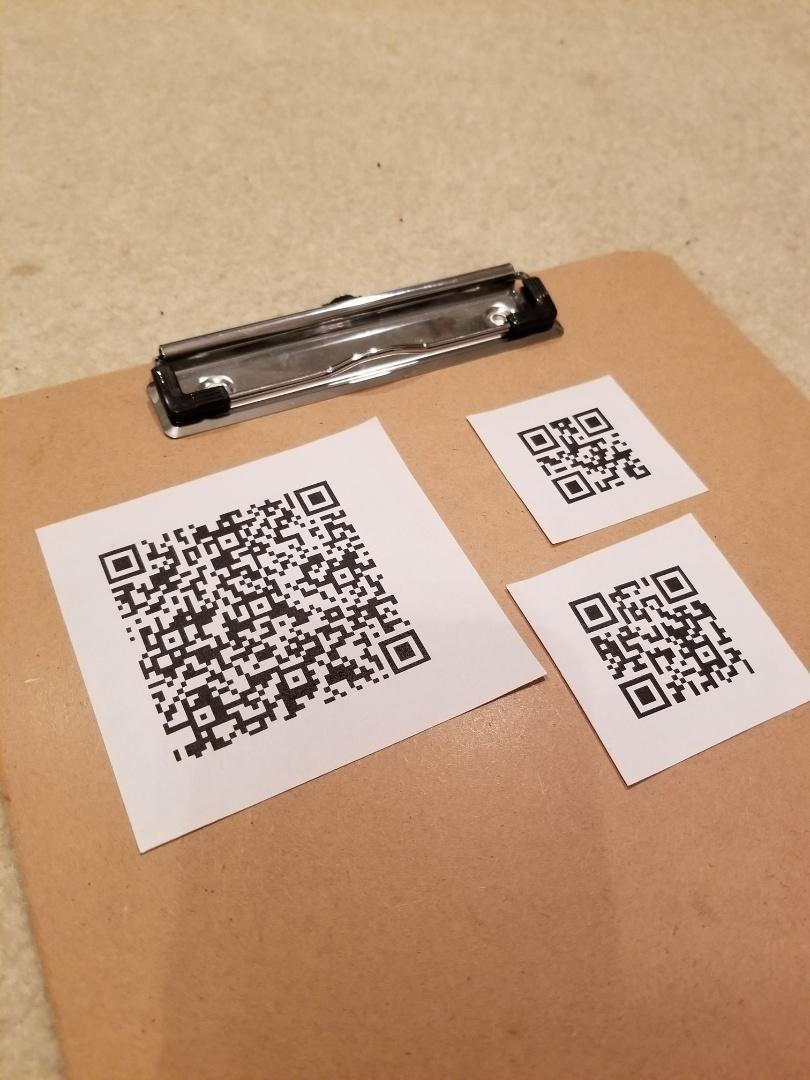Finder pattern: (376, 622, 428, 676), (622, 672, 673, 722), (569, 589, 619, 634), (96, 541, 144, 583), (649, 564, 697, 603), (292, 478, 341, 515), (550, 469, 596, 505), (518, 421, 562, 456), (571, 405, 613, 439)
